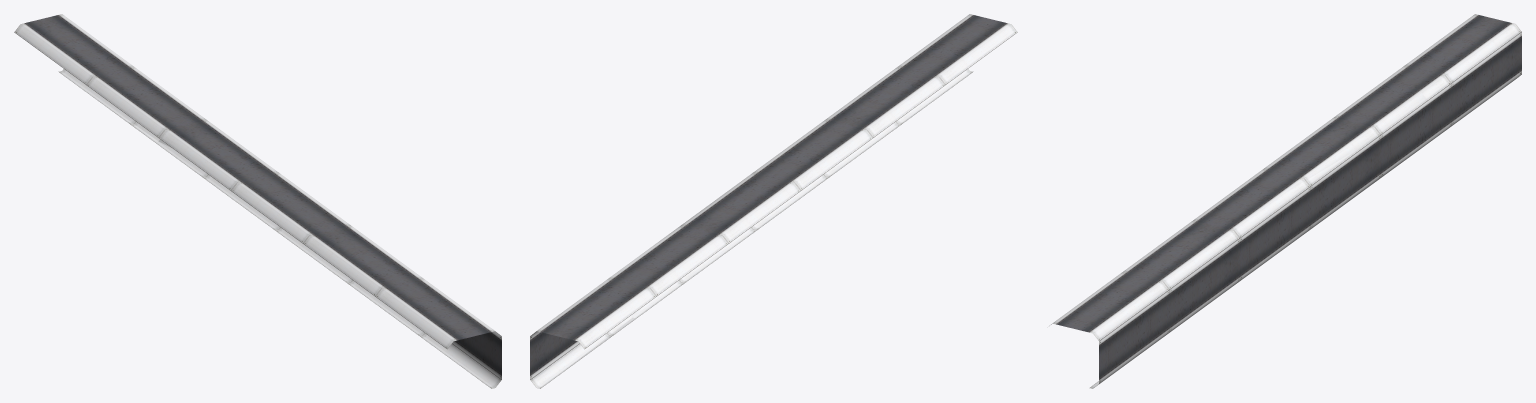
Rendered from GroundTrimCap_1x18.FBX.
3 views of the same model, side by side, from view 1: azimuth 30°, elevation 25°; view 2: azimuth 150°, elevation 25°; view 3: azimuth 330°, elevation 25° (orthographic). The views are drawn at different scales.
Visible parts, largest first — view 1: GroundTrimCap_1x18; view 2: GroundTrimCap_1x18; view 3: GroundTrimCap_1x18.
Boxes of the visible parts, left/top/right/bottom form: GroundTrimCap_1x18: left=14, top=14, right=501, bottom=388; GroundTrimCap_1x18: left=530, top=14, right=1017, bottom=388; GroundTrimCap_1x18: left=1049, top=14, right=1521, bottom=388.
Size of the model in its own units: 1.3 by 1.3 by 18.
